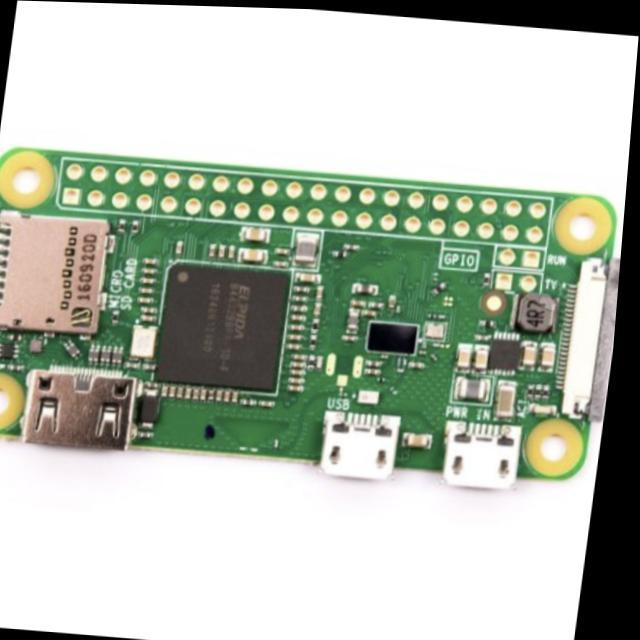Raspberry-Pi-Zero-W: (1, 150, 617, 489)
